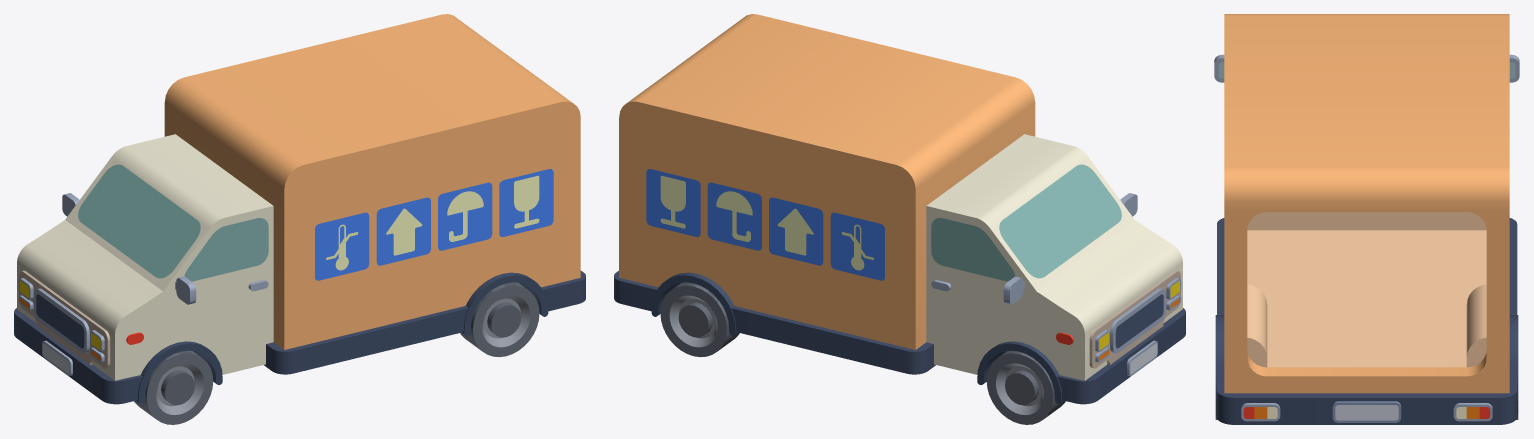
Rendered from Van Mover Service.fbx.
The picture shows the model from 3 angles, left to right: view 1: azimuth 30°, elevation 25°; view 2: azimuth 150°, elevation 25°; view 3: azimuth 270°, elevation 25°; orthographic projection. The views are drawn at different scales.
Parts seen in each view (by area): view 1: Van Mover Service, Van Mover Service Wheel.001, Van Mover Service Wheel; view 2: Van Mover Service, Van Mover Service Wheel.001, Van Mover Service Wheel; view 3: Van Mover Service.
Part boxes in pixels (x1,y1,x2,y2): Van Mover Service: (14,14,585,404); Van Mover Service Wheel.001: (460,282,539,357); Van Mover Service Wheel: (134,350,213,424); Van Mover Service: (614,14,1185,404); Van Mover Service Wheel.001: (660,282,739,357); Van Mover Service Wheel: (986,350,1065,424); Van Mover Service: (1214,14,1519,424).
Size of the model in its own units: 1184 by 565 by 552.
